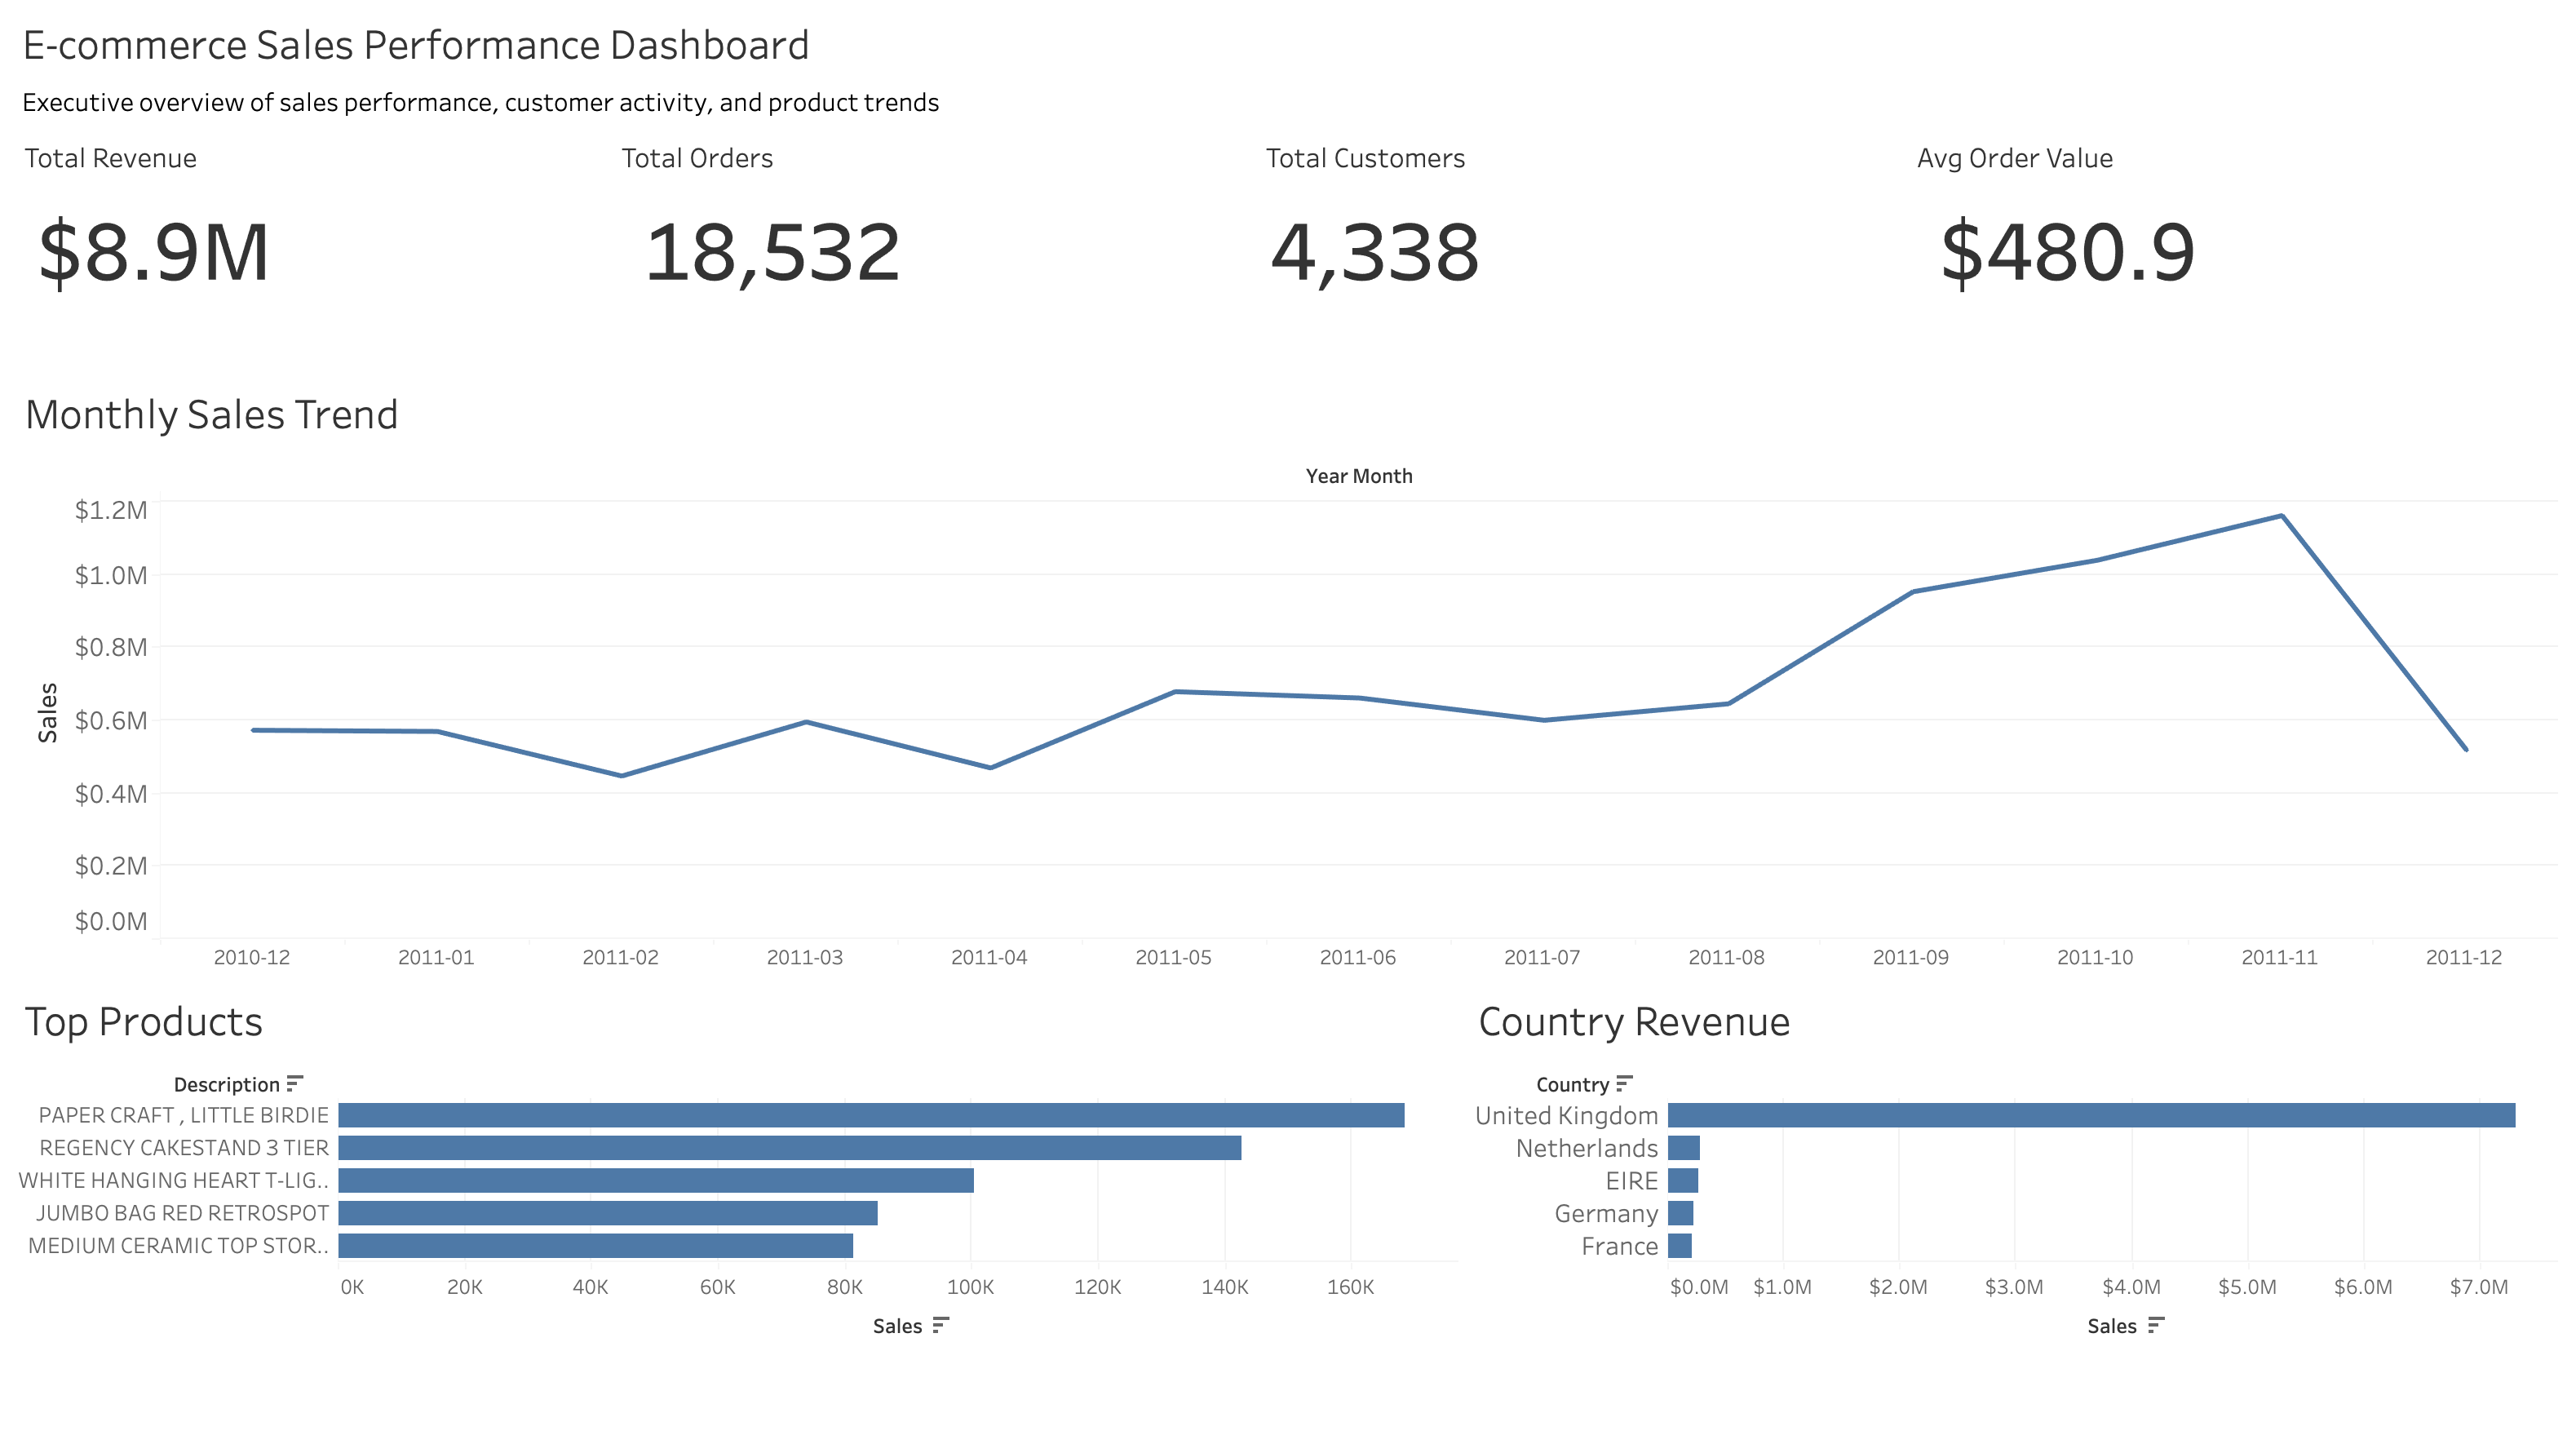

The page's visual inventory and layout, read from the dashboard file:
{"tool":"powerbi","page":{"name":"Overview","canvas":[1920,1080],"ordinal":0},"visuals":[{"type":"textbox","box":[0,0,1920,153.8],"z":0},{"type":"cardVisual","fields":{"Data":["Sum(Fact_Sales.Revenue)"]},"box":[73.2,192.9,283.8,155.2],"z":1},{"type":"cardVisual","fields":{"Data":["Data.Orders"]},"box":[372.8,192.9,271,154],"z":2},{"type":"cardVisual","fields":{"Data":["Data.Customers"]},"box":[663.3,192.9,278.7,153.8],"z":3},{"type":"cardVisual","fields":{"Data":["Data.Avg Order Value"]},"box":[1259.7,192.9,274.8,153.8],"z":5},{"type":"lineChart","fields":{"Category":["Dim_Date.Year-Month"],"Y":["Data.Total Revenue"]},"box":[425.7,492.2,705,514.4],"z":7},{"type":"clusteredBarChart","fields":{"Category":["Dim_Country.Country"],"Y":["Sum(Fact_Sales.Revenue)"]},"box":[1157.3,492.2,727.2,514.4],"z":8},{"type":"slicer","fields":{"Values":["Dim_Date.Month"]},"box":[15.5,492.2,410.2,124.2],"z":9},{"type":"slicer","fields":{"Values":["Dim_Country.Country"]},"box":[17.7,709.5,407.9,130.8],"z":10},{"type":"cardVisual","fields":{"Data":["Data.Net Revenue"]},"box":[960.4,192.9,274.9,154.2],"z":11},{"type":"cardVisual","fields":{"Data":["Data.Return Rate %"]},"box":[1554.5,192.9,295,154.2],"z":12},{"type":"pageNavigator","box":[39.9,370.3,889.1,102],"z":13}]}

Visuals, with their boxes in screenshot pixels (x1, y1, x2, y2), scaled from the page's 1920x1080 canvas onto the 2576x1444 screenshot:
textbox: bbox=(0, 0, 2575, 206)
cardVisual - Sum(Fact_Sales.Revenue): bbox=(98, 258, 479, 465)
cardVisual - Data.Orders: bbox=(500, 258, 864, 464)
cardVisual - Data.Customers: bbox=(890, 258, 1264, 463)
cardVisual - Data.Avg Order Value: bbox=(1690, 258, 2059, 463)
lineChart - Dim_Date.Year-Month x Data.Total Revenue: bbox=(571, 658, 1517, 1346)
clusteredBarChart - Dim_Country.Country x Sum(Fact_Sales.Revenue): bbox=(1553, 658, 2529, 1346)
slicer - Dim_Date.Month: bbox=(20, 658, 571, 824)
slicer - Dim_Country.Country: bbox=(24, 949, 571, 1123)
cardVisual - Data.Net Revenue: bbox=(1289, 258, 1658, 464)
cardVisual - Data.Return Rate %: bbox=(2086, 258, 2481, 464)
pageNavigator: bbox=(54, 495, 1246, 631)
